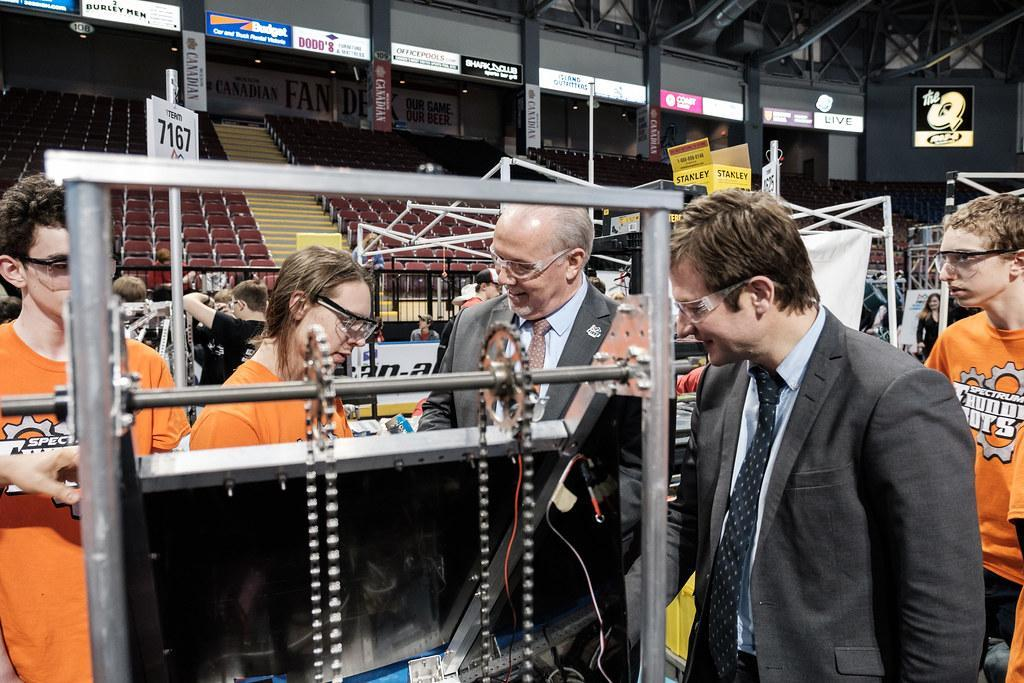robot: (43, 141, 687, 683)
